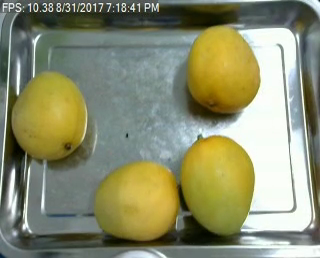Mango: (180, 134, 254, 233), (11, 69, 88, 160), (93, 163, 178, 241), (188, 26, 262, 112)
